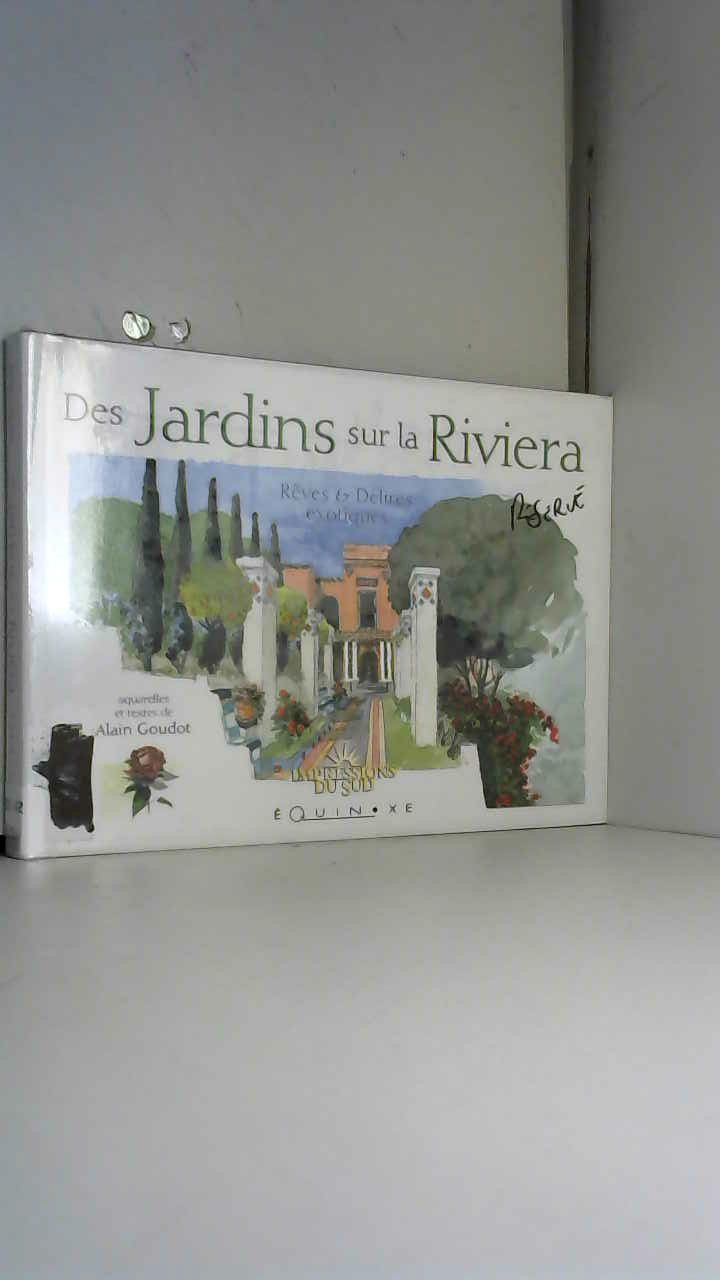book: (0, 290, 641, 884)
